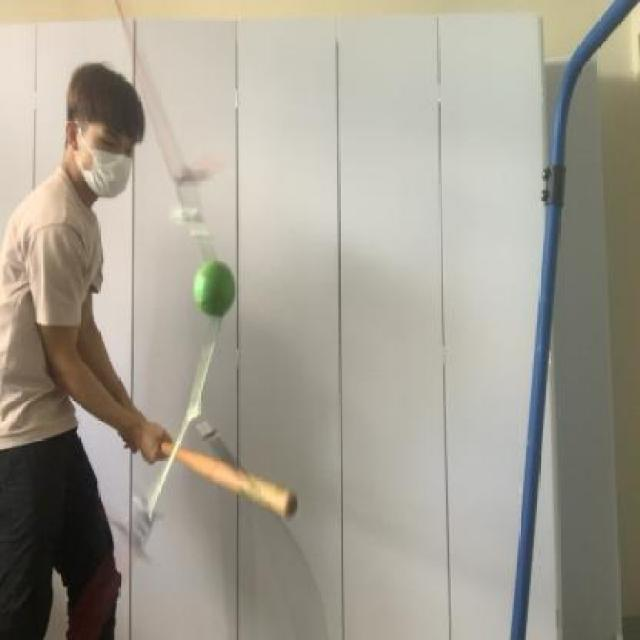baseball: (182, 246, 240, 320)
